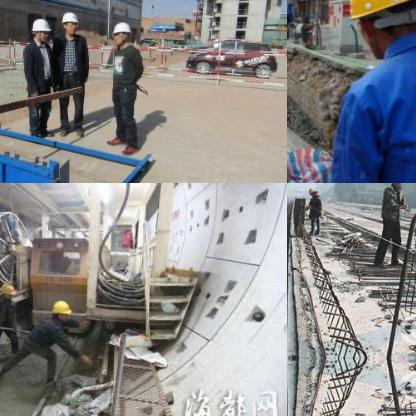Helmet: (337, 0, 415, 55), (109, 18, 133, 46), (30, 16, 52, 44), (50, 297, 70, 322), (58, 9, 78, 33), (0, 280, 17, 300), (389, 183, 410, 190), (306, 184, 318, 194)
